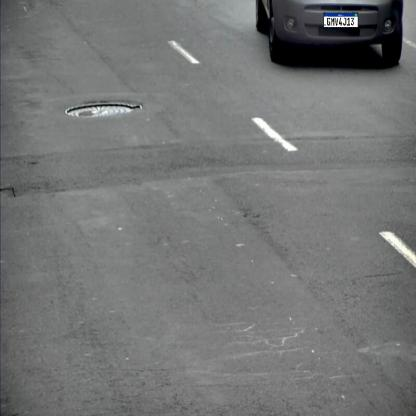PlacaM: (324, 12, 358, 28)
